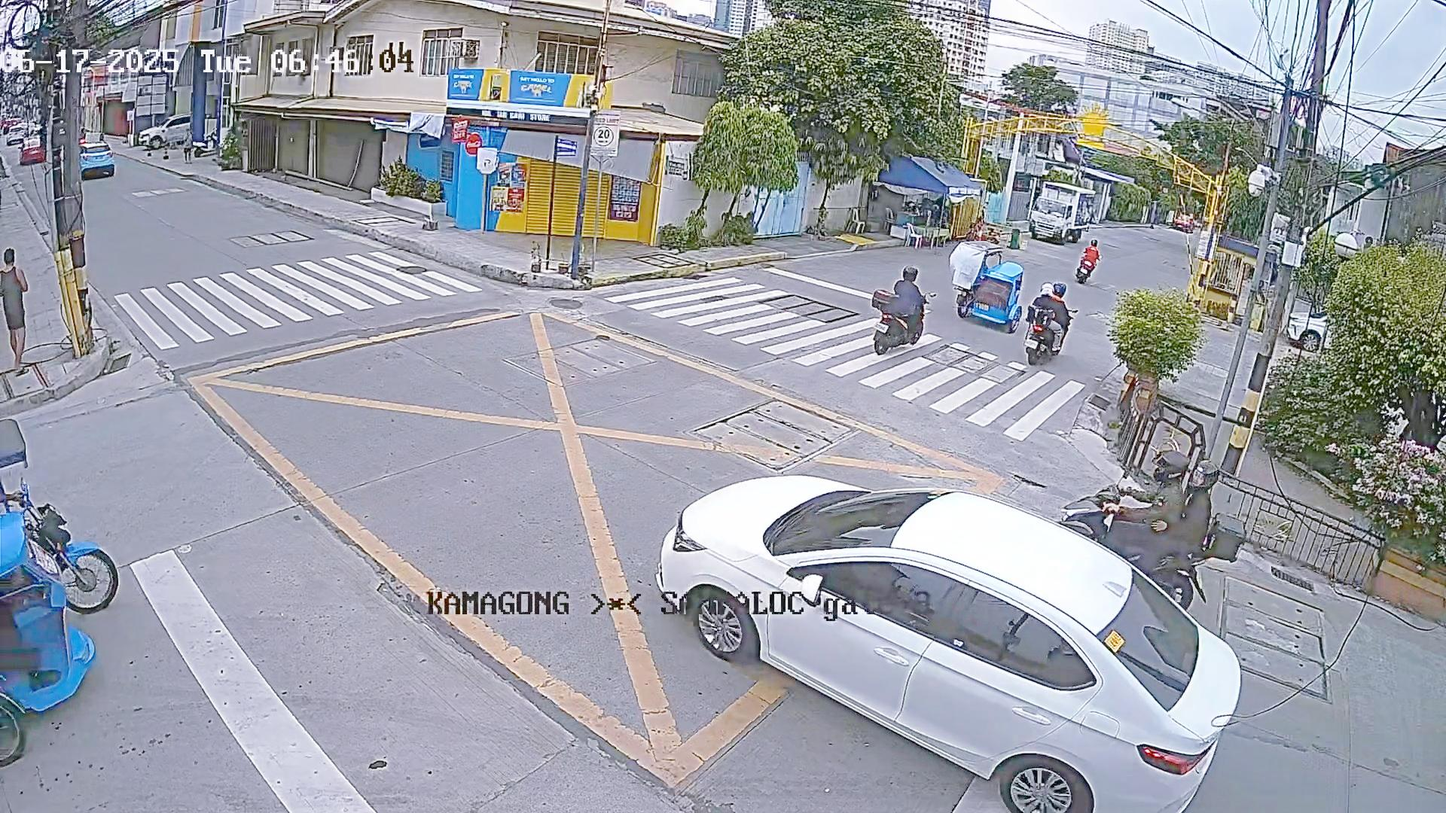Car: (615, 469, 1250, 813)
Motor: (1050, 412, 1244, 606), (858, 259, 937, 378), (1019, 273, 1097, 375), (1063, 220, 1115, 292)
